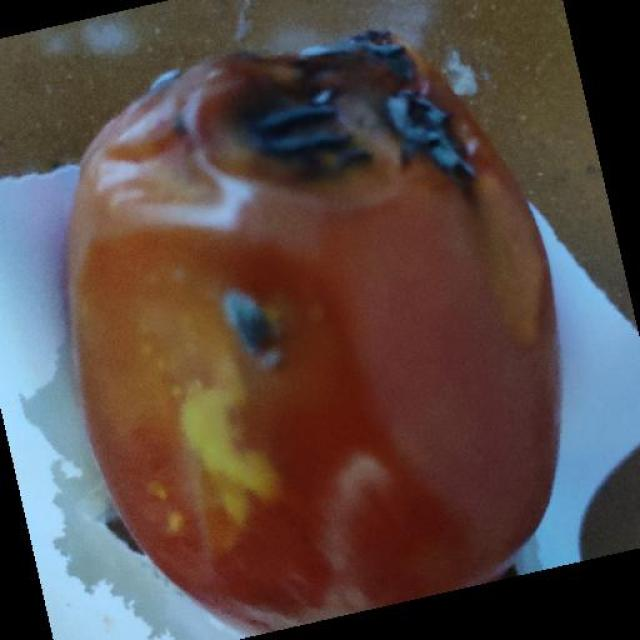Stale_tomato: (53, 50, 572, 613)
